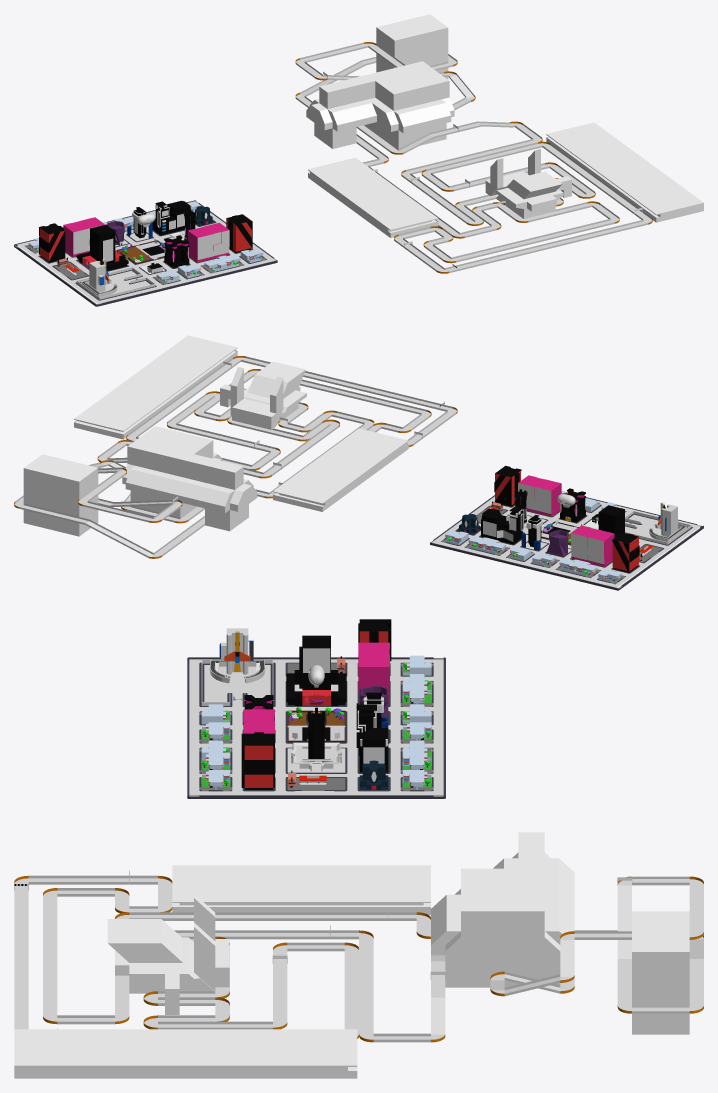
Rendered from city-transformed.glb.
3 views of the same model, one above another, from view 1: azimuth 30°, elevation 25°; view 2: azimuth 150°, elevation 25°; view 3: azimuth 270°, elevation 25° (orthographic). The views are drawn at different scales.
Visible parts, largest first — view 1: road, edificio3_road, edificio2_road, edificio1_road, edificio4_road, general_ground, edificio5_road, banquetas.058, edificio 9, edificio1, edificio7, edificio8 (+4 smaller); view 2: road, edificio3_road, edificio2_road, edificio1_road, edificio4_road, edificio5_road, general_ground, banquetas.058, edificio1, edificio 9, edificio2, edificio8 (+5 smaller); view 3: road, edificio2_road, edificio3_road, general_ground, edificio1_road, edificio5_road, edificio4_road, banquetas.058, edificio 9, edificio2, GroundParkGeneral, Mesh92 Group40 Model (+8 smaller).
Boxes of the visible parts, <box> form: road: <box>295,42,652,273</box>; edificio3_road: <box>306,61,454,150</box>; edificio2_road: <box>546,122,703,222</box>; edificio1_road: <box>308,157,438,237</box>; edificio4_road: <box>376,14,448,79</box>; general_ground: <box>17,201,275,303</box>; edificio5_road: <box>485,149,571,218</box>; banquetas.058: <box>14,200,277,306</box>; edificio 9: <box>226,214,252,252</box>; edificio1: <box>39,223,65,262</box>; edificio7: <box>164,235,189,268</box>; edificio8: <box>187,223,229,262</box>; road: <box>14,356,457,558</box>; edificio3_road: <box>122,426,257,531</box>; edificio2_road: <box>74,335,237,439</box>; edificio1_road: <box>273,428,408,511</box>; edificio4_road: <box>23,454,98,536</box>; edificio5_road: <box>220,361,306,429</box>; general_ground: <box>432,493,700,587</box>; banquetas.058: <box>430,492,703,590</box>; edificio1: <box>612,532,639,572</box>; edificio 9: <box>494,465,521,506</box>; edificio2: <box>571,525,614,566</box>; edificio8: <box>518,475,561,516</box>; road: <box>14,875,703,1042</box>; edificio2_road: <box>14,1029,357,1078</box>; edificio3_road: <box>431,832,574,987</box>; general_ground: <box>189,659,443,795</box>; edificio1_road: <box>172,865,430,914</box>; edificio5_road: <box>107,894,229,1014</box>; edificio4_road: <box>632,911,689,1034</box>; banquetas.058: <box>187,657,445,798</box>; edificio 9: <box>241,732,274,789</box>; edificio2: <box>358,642,389,701</box>; GroundParkGeneral: <box>287,712,345,740</box>; Mesh92 Group40 Model: <box>286,670,346,705</box>.
Bounding box in the file's own units: 694 × 65.41 × 480.
